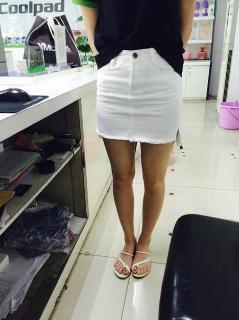short sleeve top: (72, 0, 186, 78)
skirt: (95, 46, 184, 147)
